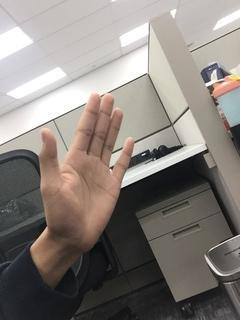hand: (36, 91, 134, 251)
